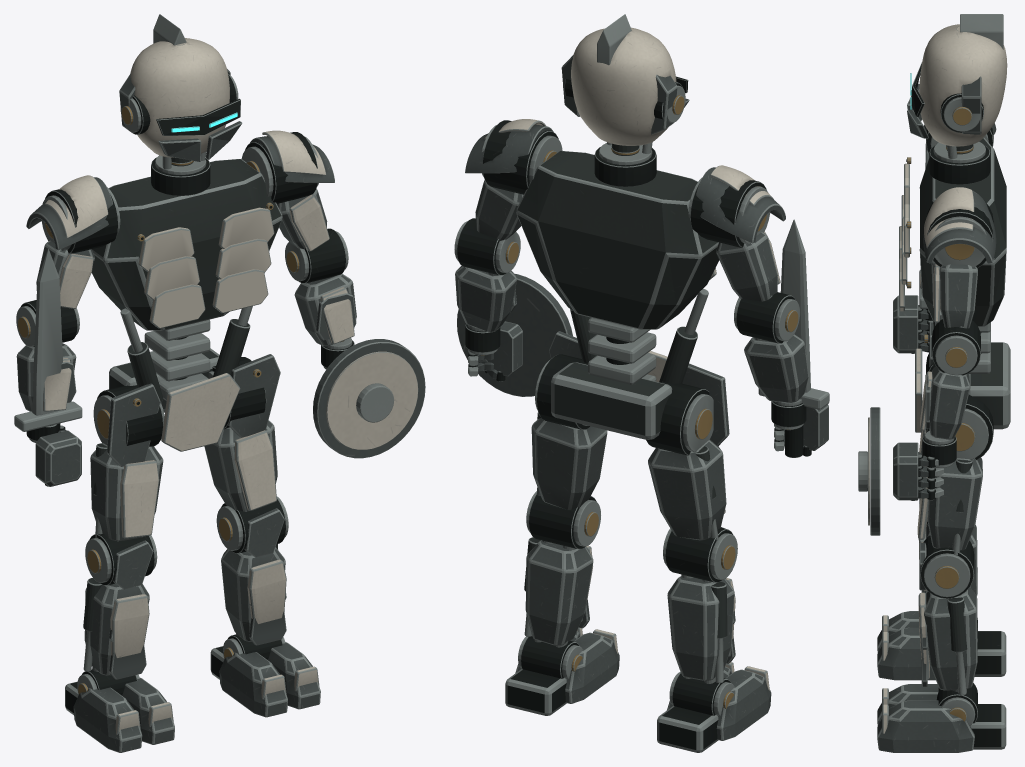
The model's file is speed-t2-duelist.glb.
The picture shows the model from 3 angles, left to right: view 1: azimuth 30°, elevation 25°; view 2: azimuth 150°, elevation 25°; view 3: azimuth 270°, elevation 25°; orthographic projection. The views are drawn at different scales.
Visible parts, largest first — view 1: chest__metal, pelvis__metal, chest__clay, shieldL__clay, head__clay, pelvis__clay, kneeL__clay, kneeR__clay, ankleL__clay, ankleR__clay, shoulderR__clay, hipR__clay (+16 smaller); view 2: chest__metal, pelvis__metal, head__clay, shoulderR__clay, kneeL__clay, hipR__clay, hipL__clay, kneeR__clay, shieldL__clay, shoulderL__clay, ankleL__metal, ankleR__metal (+17 smaller); view 3: head__clay, chest__metal, shoulderL__clay, ankleL__clay, pelvis__metal, kneeL__clay, hipL__clay, kneeL__metal, ankleR__clay, head__metal, elbowL__clay, ankleL__metal (+13 smaller).
Boxes of the visible parts, box(x1,y1,x2,y2) form: chest__metal: box(91, 155, 282, 330); pelvis__metal: box(93, 306, 266, 446); chest__clay: box(138, 207, 274, 328); shieldL__clay: box(313, 339, 425, 458); head__clay: box(119, 38, 242, 161); pelvis__clay: box(107, 354, 280, 466); kneeL__clay: box(221, 508, 286, 645); kneeR__clay: box(84, 540, 153, 679); ankleL__clay: box(219, 642, 320, 717); ankleR__clay: box(73, 677, 174, 752); shoulderR__clay: box(26, 175, 112, 308); hipR__clay: box(90, 443, 163, 541); chest__metal: box(516, 143, 719, 329); pelvis__metal: box(535, 289, 713, 455); head__clay: box(561, 27, 689, 145); shoulderR__clay: box(696, 165, 785, 301); kneeL__clay: box(525, 540, 593, 645); hipR__clay: box(648, 439, 726, 540); hipL__clay: box(531, 418, 607, 509); kneeR__clay: box(667, 527, 735, 680); shieldL__clay: box(457, 273, 572, 396); shoulderL__clay: box(465, 119, 553, 240); ankleL__metal: box(505, 636, 582, 715); ankleR__metal: box(657, 672, 734, 752); head__clay: box(907, 24, 1007, 146); chest__metal: box(906, 137, 1006, 326); shoulderL__clay: box(923, 187, 996, 328); ankleL__clay: box(877, 684, 974, 752); pelvis__metal: box(923, 309, 1010, 460); kneeL__clay: box(918, 542, 977, 690); hipL__clay: box(917, 457, 982, 550); kneeL__metal: box(920, 535, 974, 695); ankleR__clay: box(877, 611, 935, 680); head__metal: box(910, 14, 1003, 158); elbowL__clay: box(920, 366, 970, 439); ankleL__metal: box(936, 683, 1006, 749).
Bounding box in the file's own units: 2.65 × 4.51 × 0.9.
11 materials, 10 textured.
